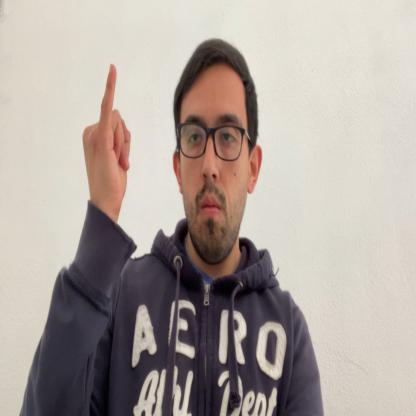I: (82, 61, 130, 218)
